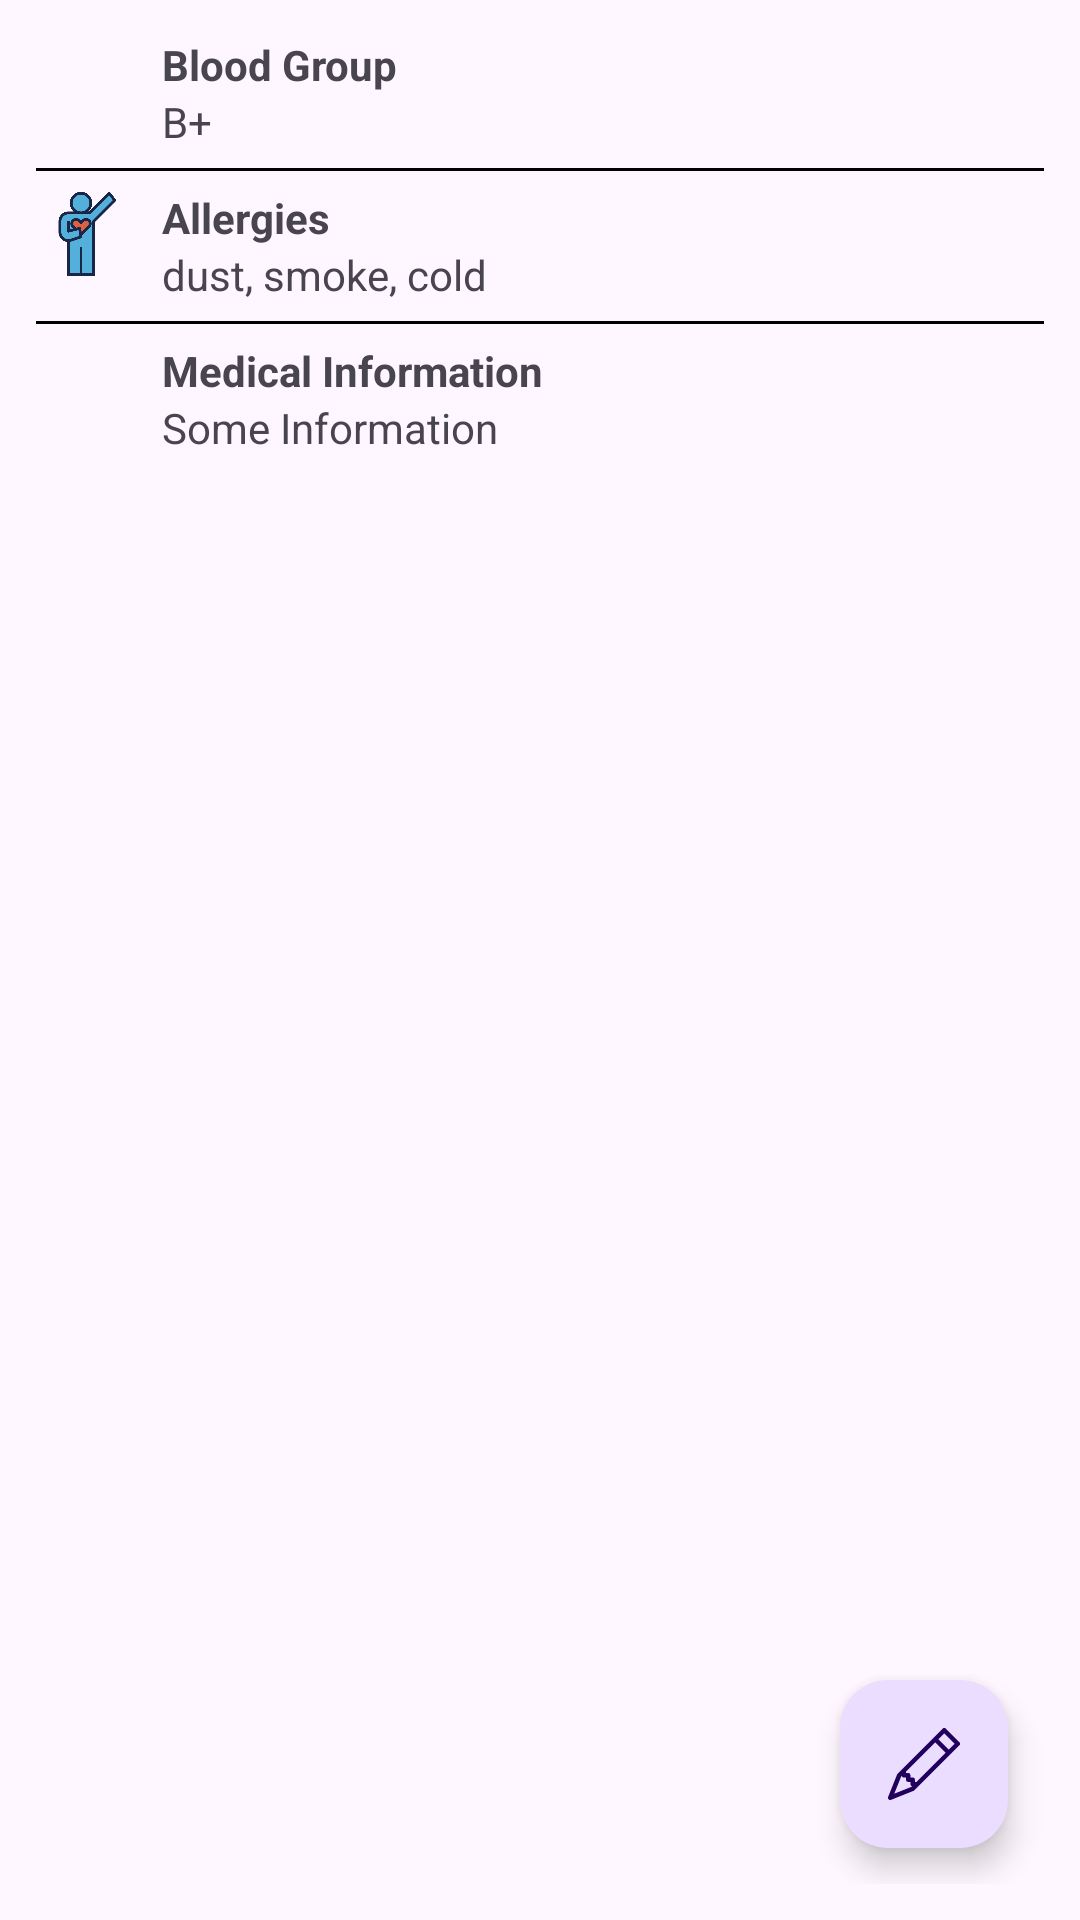

Where to tap for icons on this 1080x1920 app screen, as (x=x, y=y):
allegiance: (x=87, y=234)
edit: (x=924, y=1764)
